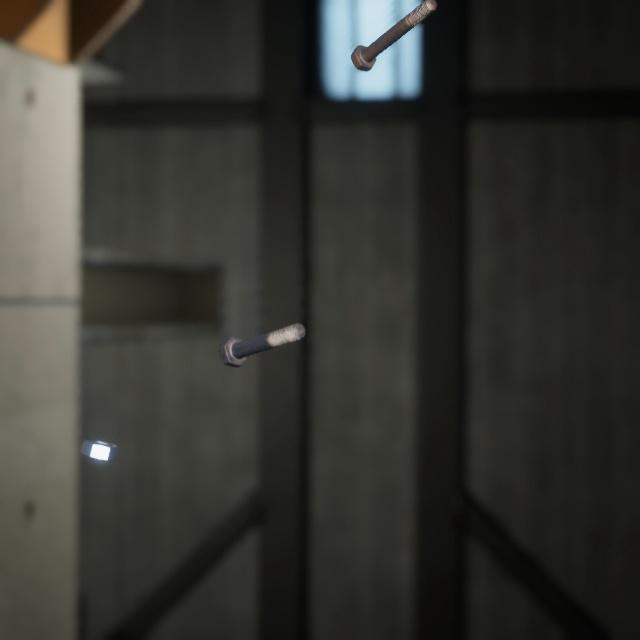bolt: (345, 0, 441, 68), (214, 299, 310, 353)
nut: (76, 414, 123, 445)
